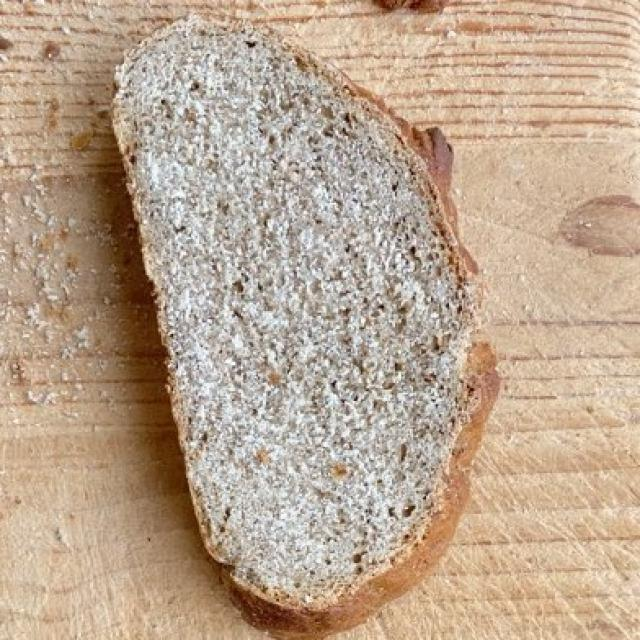bread: (118, 34, 491, 618)
